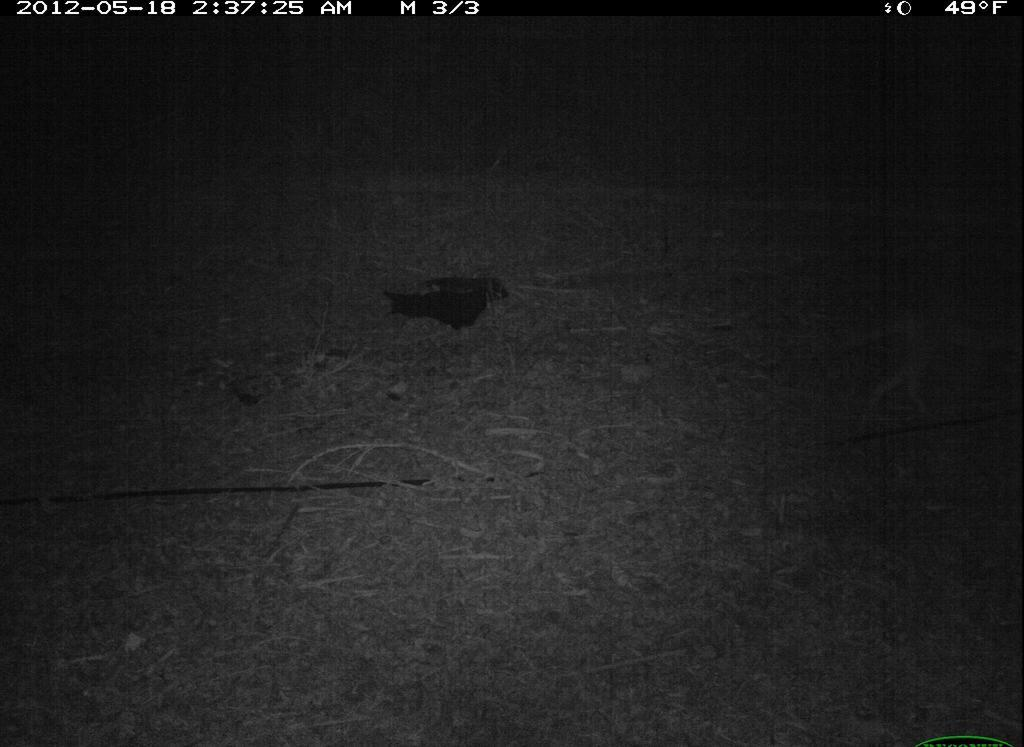coyote: (821, 285, 1023, 429)
